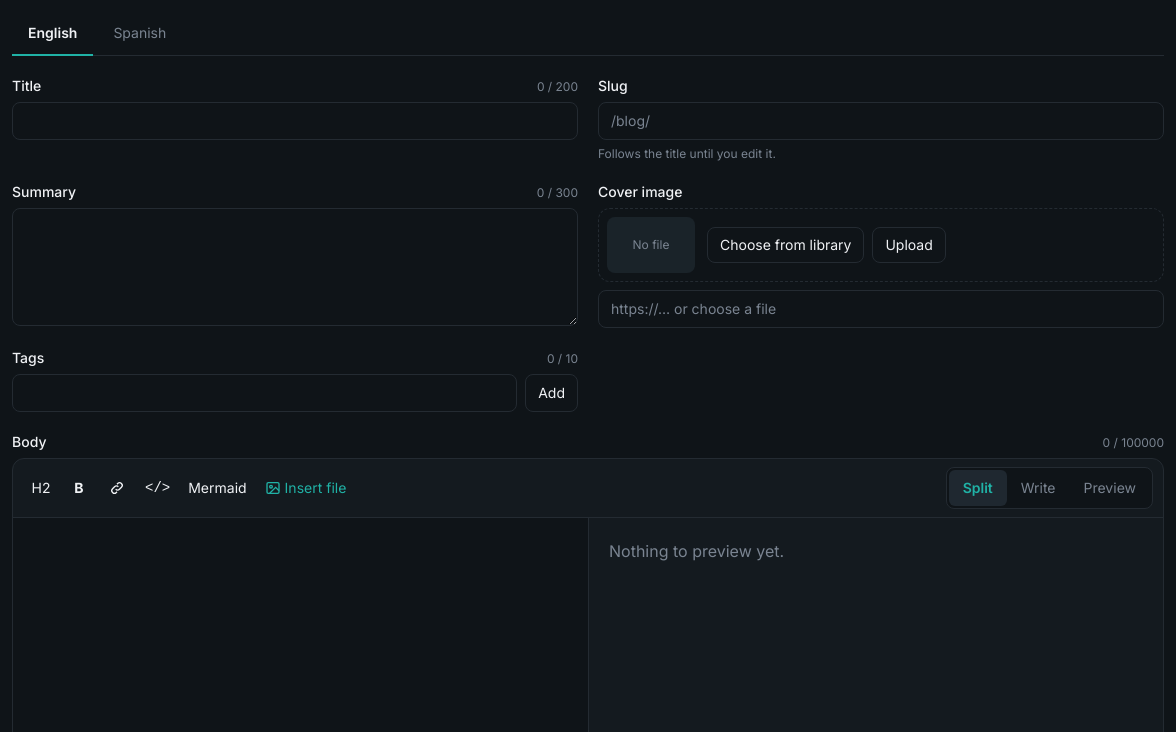
Test: ItemForm content-pages fields › renders tags as chips with an n / 10 counter
Expected: the text "0 / 10" is shown, top-left (547, 351), bottom-right (578, 367)
Type "NestJS" into the field labelled "Tags" at (265, 393), box top-left (12, 374), bottom-right (517, 412)
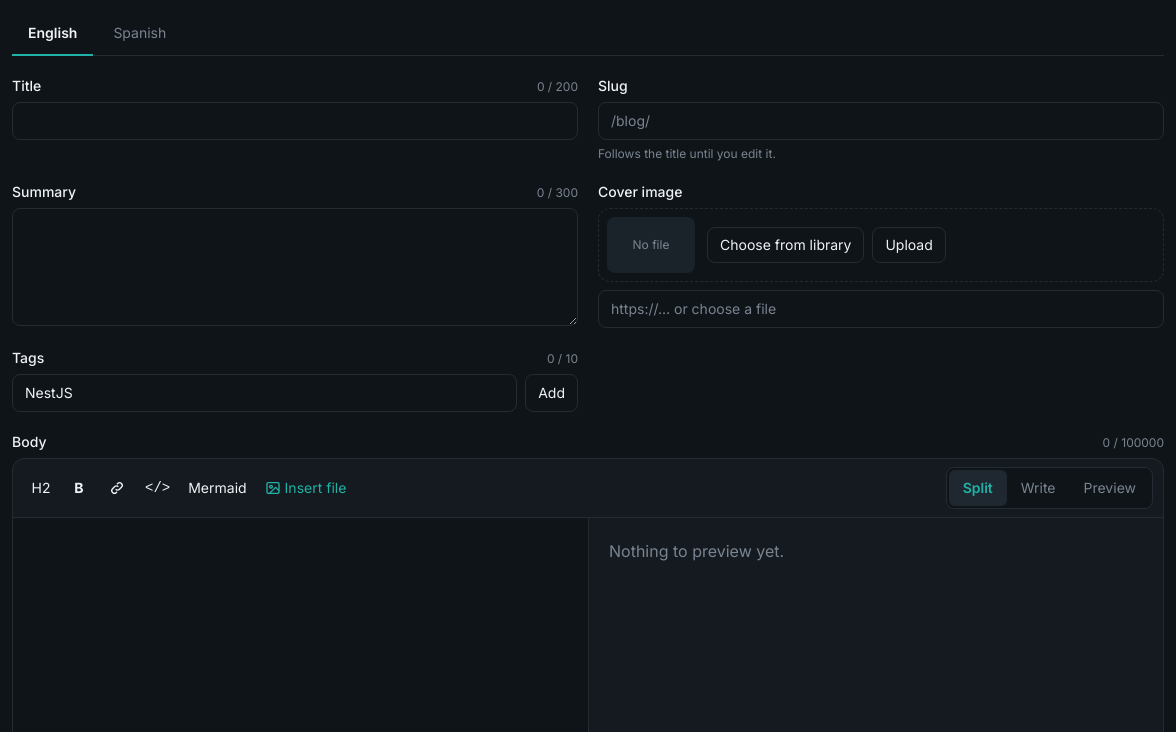
Press Enter in the field labelled "Tags", box top-left (12, 374), bottom-right (517, 412)
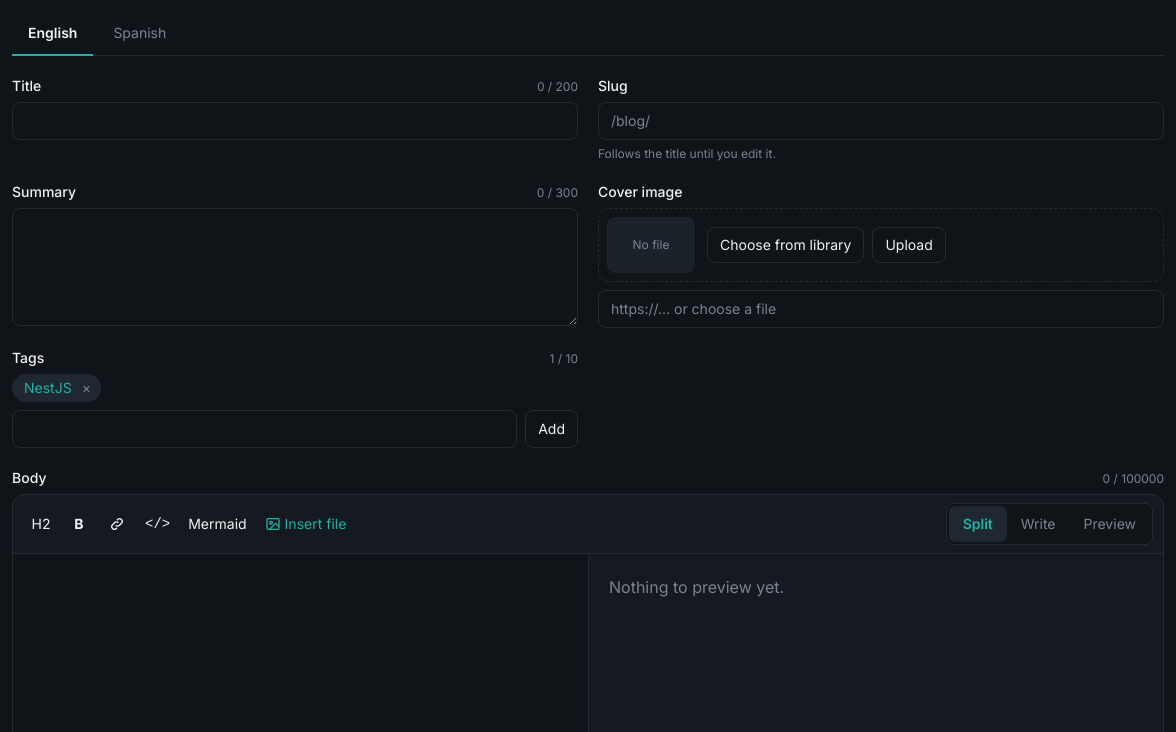
Now the text "NestJS" is shown, box top-left (24, 378), bottom-right (72, 398)
Now the text "1 / 10" is shown, box top-left (550, 351), bottom-right (578, 367)
